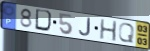5: (58, 12, 74, 36)
8: (19, 8, 33, 29)
D: (34, 8, 55, 33)
H: (98, 18, 118, 43)
J: (78, 17, 92, 37)
Q: (117, 22, 136, 44)
